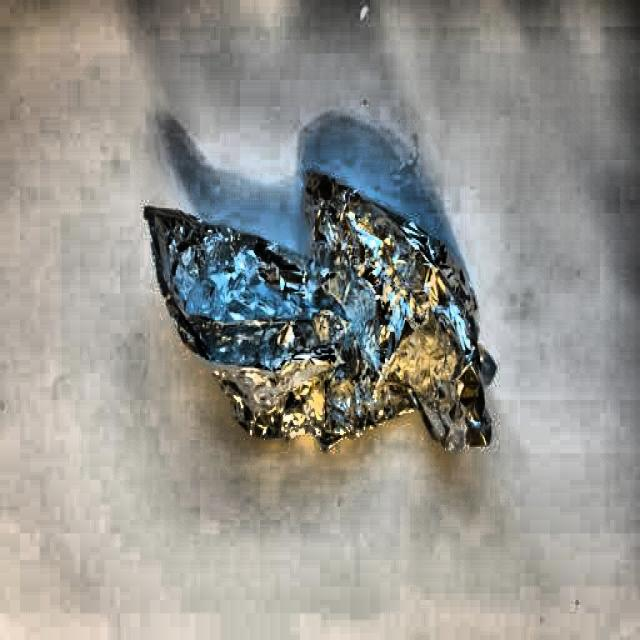metal: (137, 168, 499, 458)
